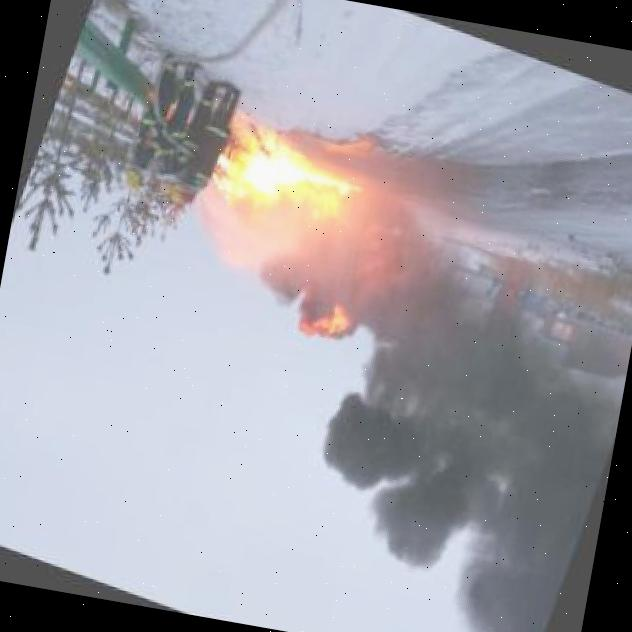fire: (172, 112, 410, 345)
smoke: (152, 183, 632, 632)
